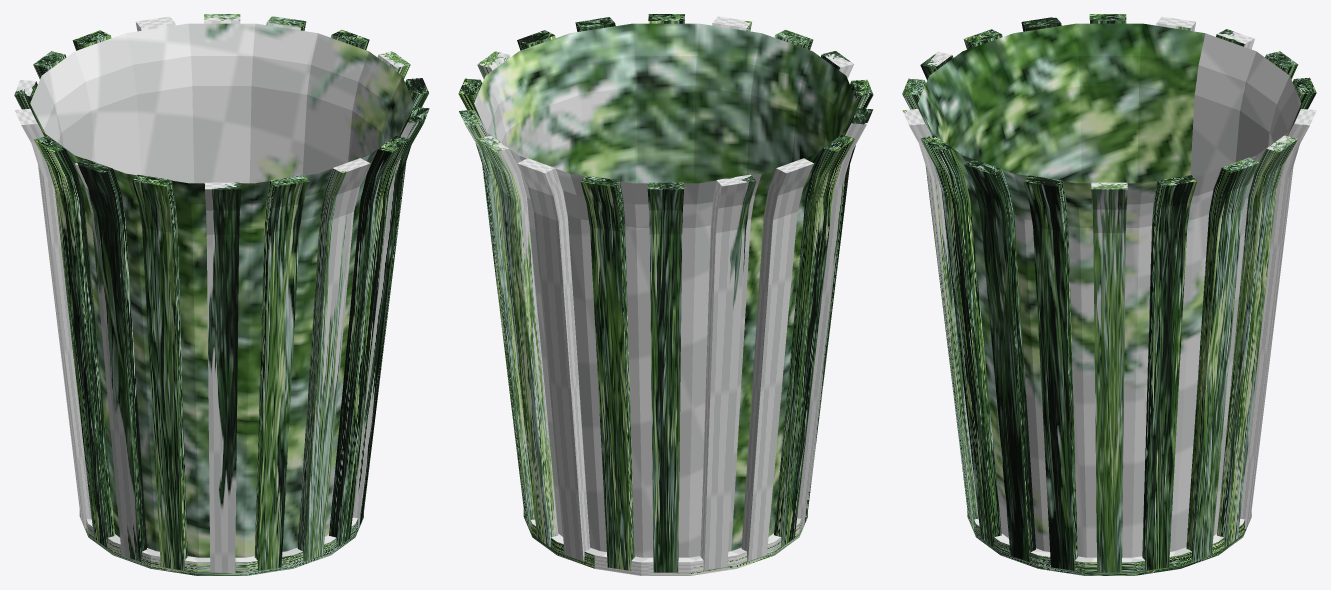
File: brossa.fbx
3 views of the same model, side by side, from view 1: azimuth 30°, elevation 25°; view 2: azimuth 150°, elevation 25°; view 3: azimuth 270°, elevation 25° (orthographic).
Parts seen in each view (by area): view 1: Cube.006, Cylinder, Cylinder.001; view 2: Cube.006, Cylinder, Cylinder.001; view 3: Cube.006, Cylinder, Cylinder.001.
Part boxes in pixels (x1,y1,x2,y2): Cube.006: (14,14,429,572); Cylinder: (30,23,413,557); Cylinder.001: (79,510,363,575); Cube.006: (458,14,873,572); Cylinder: (474,23,857,557); Cylinder.001: (523,510,807,575); Cube.006: (902,14,1316,572); Cylinder: (918,23,1301,557); Cylinder.001: (967,510,1251,575).
Bounding box in the file's own units: 244 × 269 × 244.
